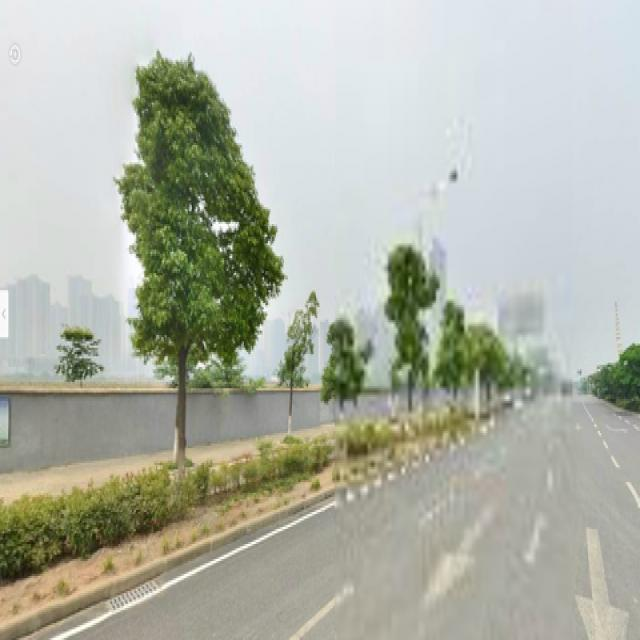cinn: (143, 90, 253, 443)
